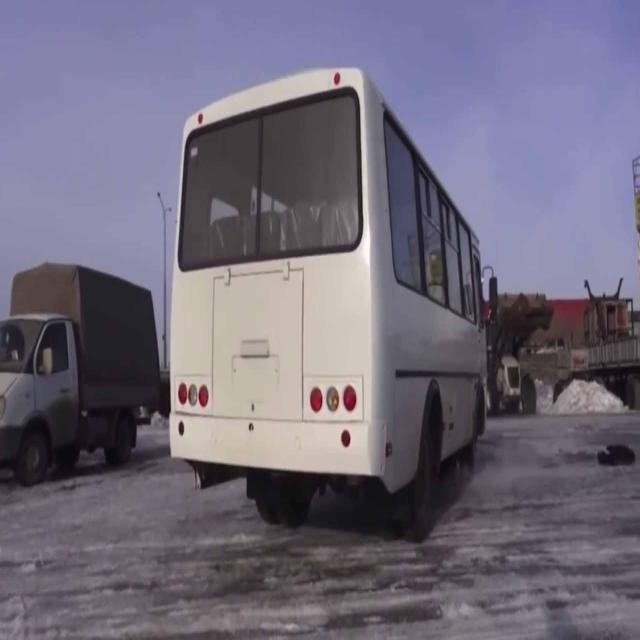Bus: (167, 57, 496, 534)
